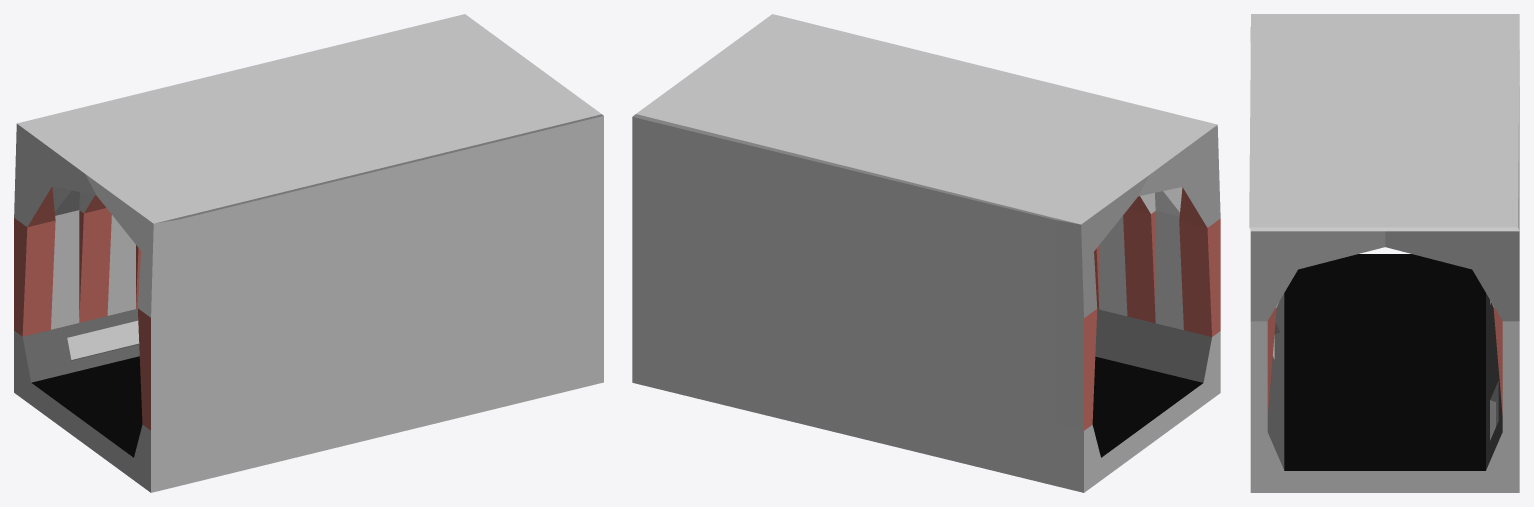
The picture shows the model from 3 angles, left to right: view 1: azimuth 30°, elevation 25°; view 2: azimuth 150°, elevation 25°; view 3: azimuth 270°, elevation 25°; orthographic projection.
Parts seen in each view (by area): view 1: Cube; view 2: Cube; view 3: Cube.
Boxes of the visible parts, x1,y1,x2,y2 form: Cube: [14, 14, 603, 492]; Cube: [632, 14, 1220, 492]; Cube: [1249, 14, 1519, 492].
Bounding box in the file's own units: 840 × 478 × 443.
